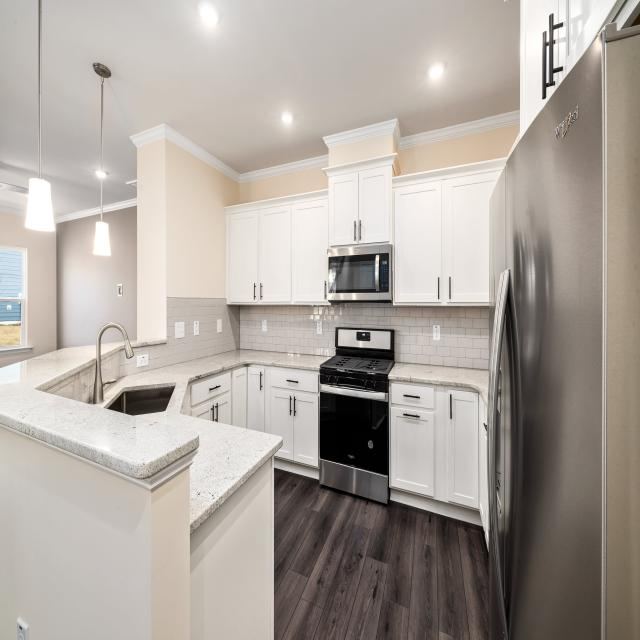Appliance_Fridge: (486, 0, 640, 640)
Appliance_Microwave: (327, 241, 395, 308)
Appliance_Oven: (319, 327, 395, 506)
Appliance_Sink: (94, 322, 134, 405), (104, 383, 176, 416)
Cabinet_Flat: (191, 371, 232, 406), (269, 370, 319, 393), (392, 382, 435, 408), (481, 402, 488, 436)
Cabinet_Shaker: (225, 156, 507, 306), (190, 366, 319, 468), (389, 390, 479, 509)
Countertop_Granite: (101, 350, 330, 529), (0, 345, 201, 479), (389, 363, 491, 399), (101, 341, 126, 355)
